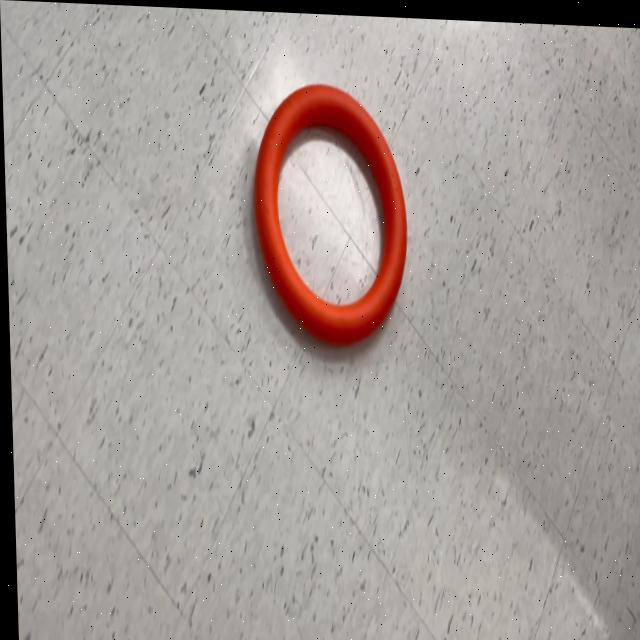note: (249, 78, 411, 352)
